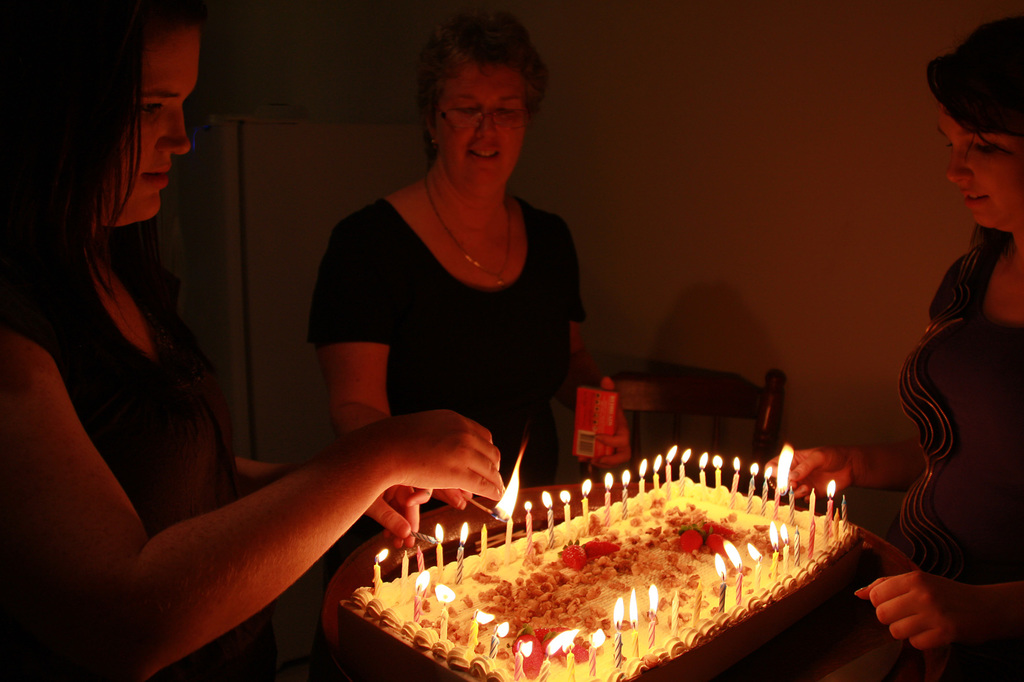Human-face: (100, 31, 205, 226), (436, 59, 532, 201), (929, 93, 1021, 236)
